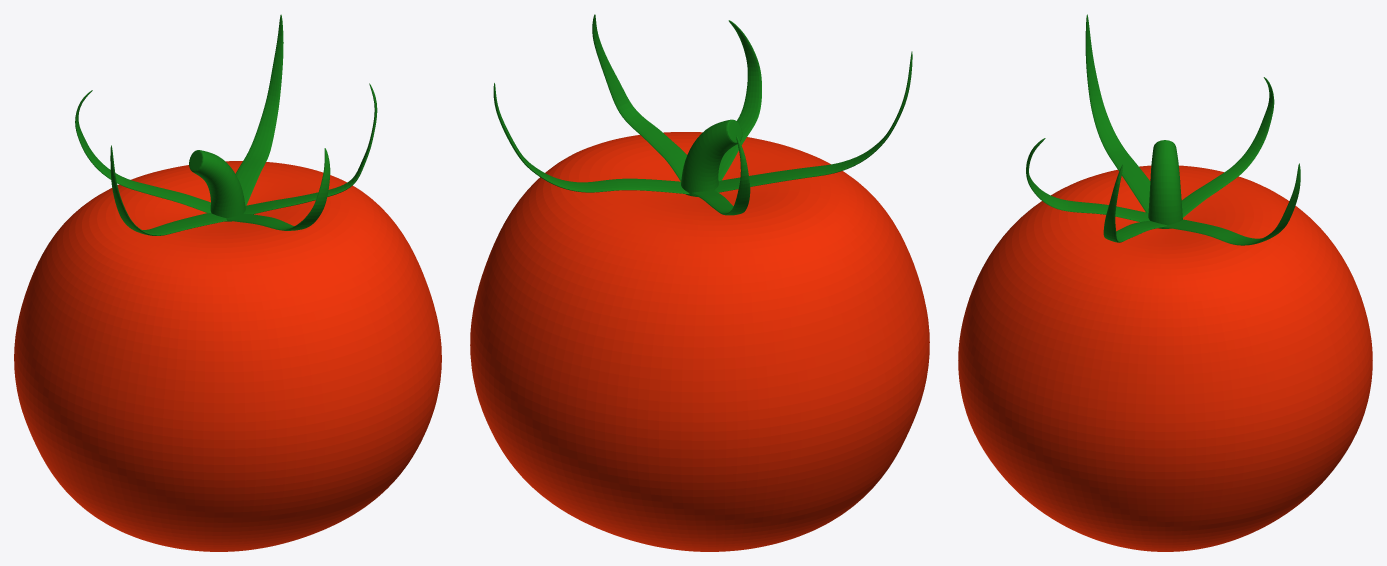
Rendered from Tomato.fbx.
3 renders of one model, left to right at view 1: azimuth 30°, elevation 25°; view 2: azimuth 150°, elevation 25°; view 3: azimuth 270°, elevation 25°, orthographic. The views are drawn at different scales.
Parts seen in each view (by area): view 1: Tomato; view 2: Tomato; view 3: Tomato.
Part boxes in pixels (x1=…): Tomato: x1=14, y1=14, x2=441, y2=551; Tomato: x1=470, y1=14, x2=929, y2=551; Tomato: x1=958, y1=14, x2=1372, y2=551.
Size of the model in its own units: 15.8 by 18.53 by 15.8.
